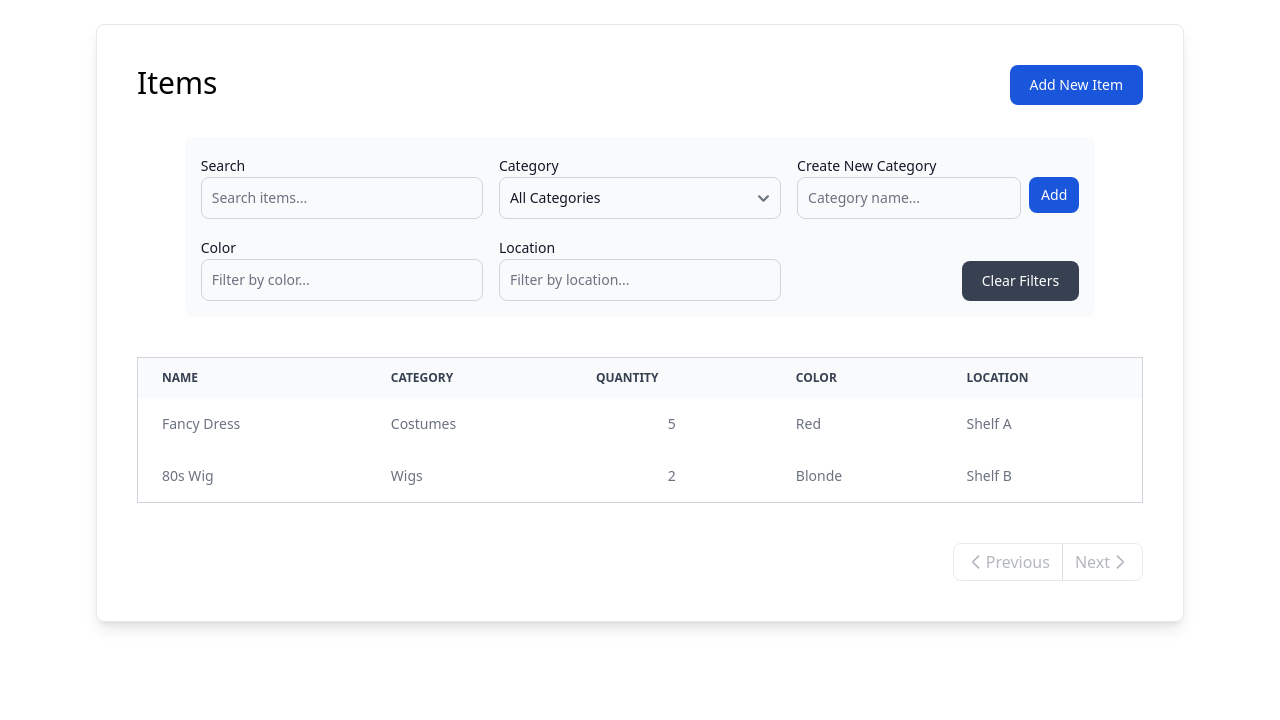
Test: Items Page › displays error message when category creation fails with duplicate name
The width and height of the screenshot is (1280, 720).
Expected: the text "Fancy Dress" is shown, [138, 398, 367, 450]
Type "Duplicate Category" into the field with placeholder "Category name..." at x=909, y=198, box [797, 177, 1021, 219]
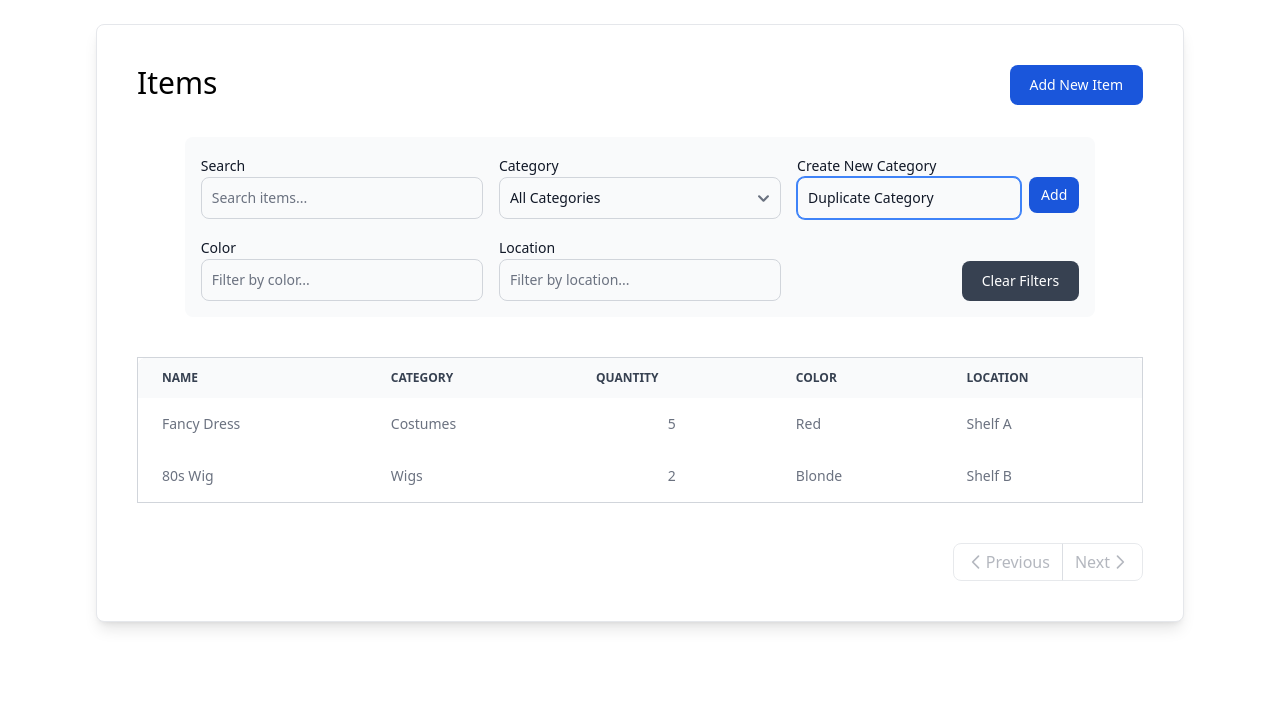
Click the button "Add" at x=1054, y=195, box [1029, 177, 1079, 213]
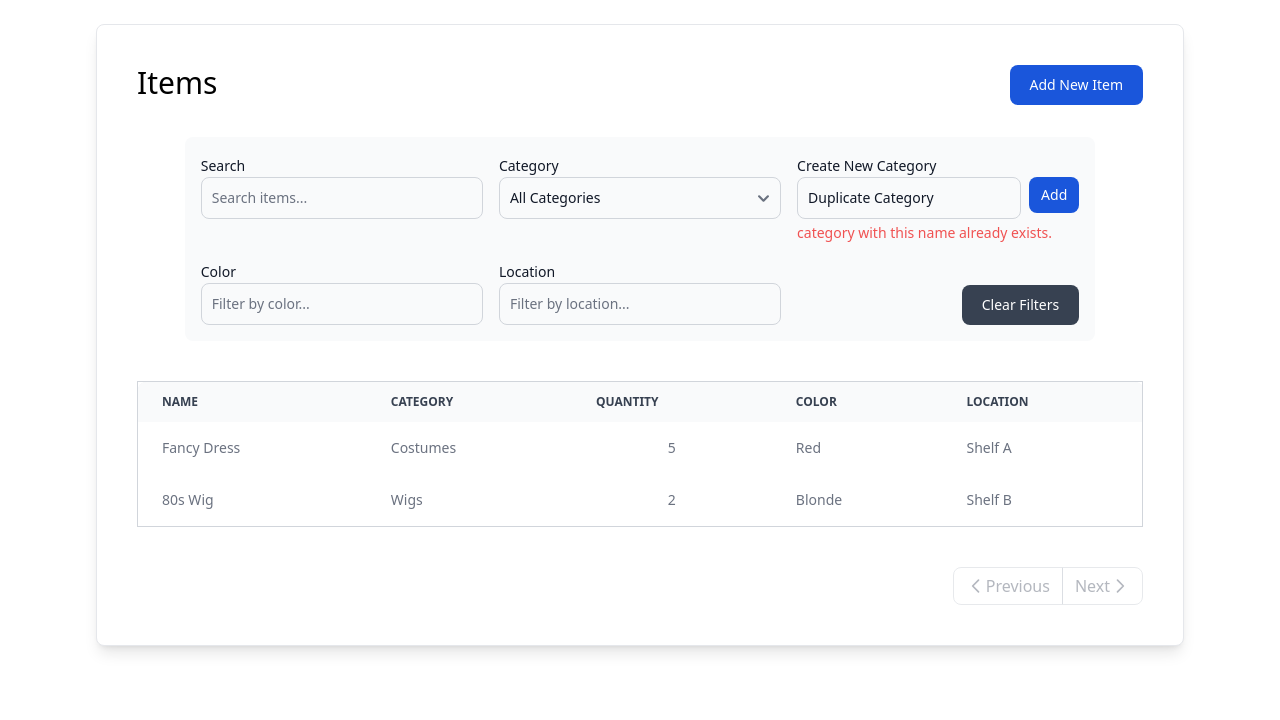
Expected: the text "category with this name already exists." is shown, [797, 223, 1079, 243]
